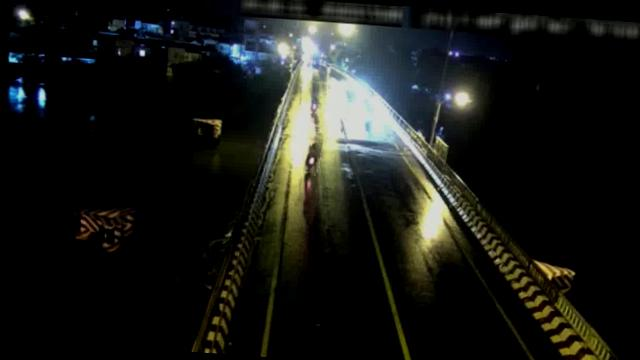Bike: (302, 140, 321, 173)
